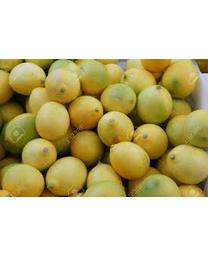lemon: (109, 139, 151, 179), (165, 144, 207, 183), (46, 156, 88, 194), (136, 84, 174, 123), (99, 111, 135, 146), (9, 63, 46, 96), (68, 95, 104, 128), (37, 102, 69, 139), (21, 137, 56, 170), (46, 70, 80, 103), (100, 83, 137, 113)
